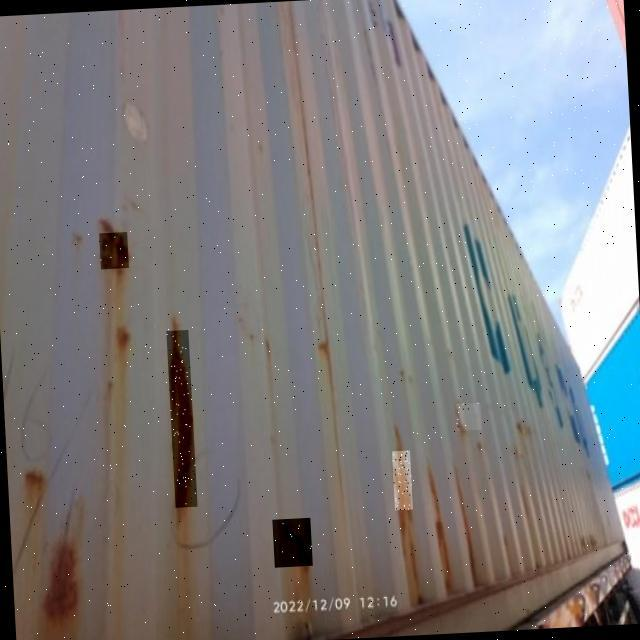Rust: (167, 330, 198, 508), (272, 518, 313, 570), (392, 451, 413, 511), (99, 232, 129, 269), (456, 403, 482, 431)
